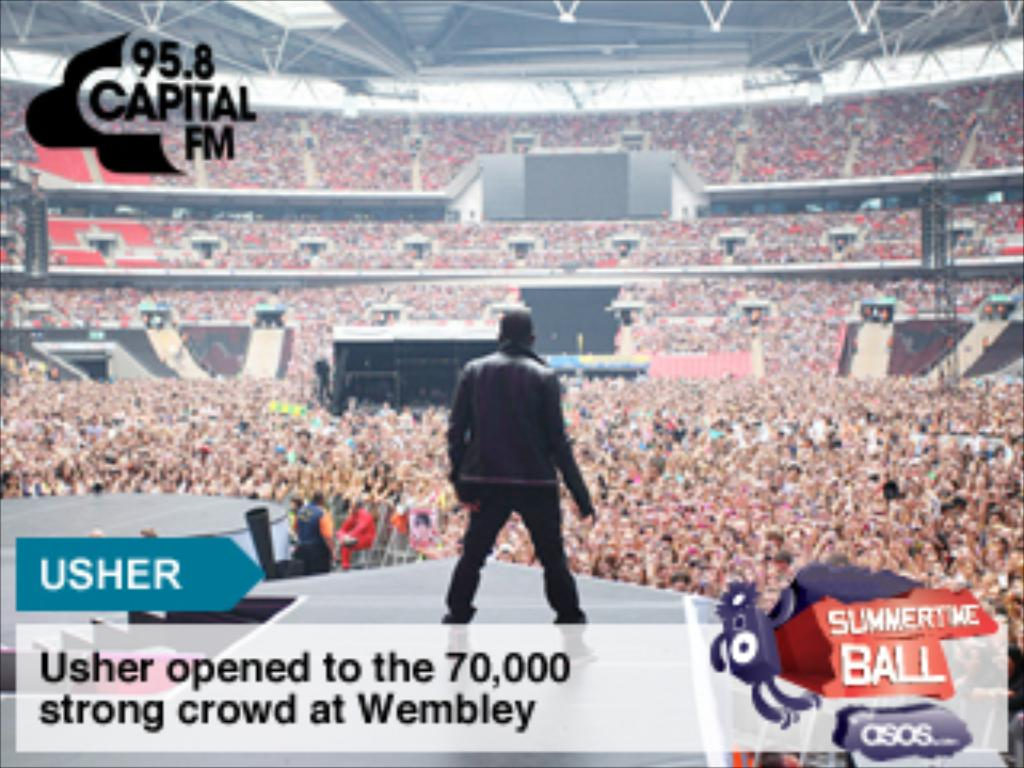Footwear: (442, 624, 477, 659), (557, 634, 592, 666)
